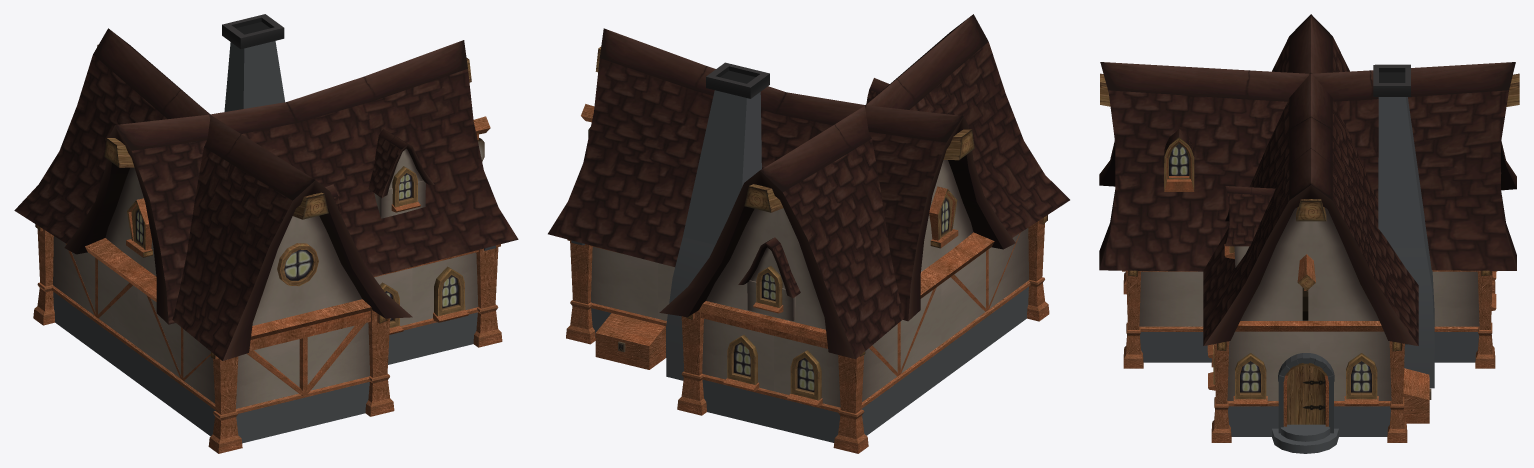
Rendered from fanasty_mod_village_building06.fbx.
3 views of the same model, side by side, from view 1: azimuth 30°, elevation 25°; view 2: azimuth 150°, elevation 25°; view 3: azimuth 270°, elevation 25° (orthographic). The views are drawn at different scales.
Parts seen in each view (by area): view 1: village_building_06; view 2: village_building_06; view 3: village_building_06.
Part boxes in pixels (bbox=[...]): village_building_06: bbox=[14, 14, 518, 453]; village_building_06: bbox=[548, 14, 1069, 453]; village_building_06: bbox=[1099, 14, 1519, 453].
Bounding box in the file's own units: 13.28 × 9.85 × 12.96.
